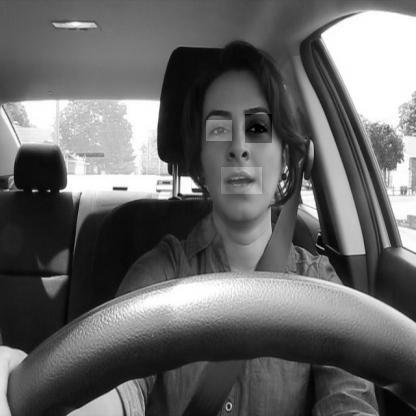seatbelt: (186, 36, 314, 416)
